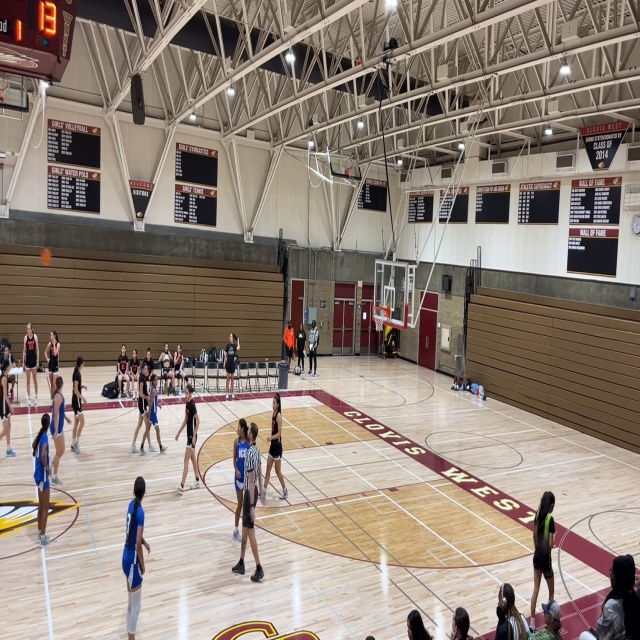Basketball: (41, 248, 51, 265)
